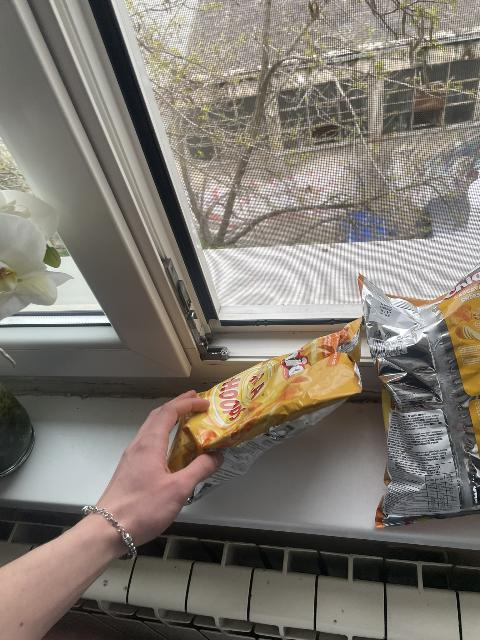Chio Cascaval 125g: (359, 272, 477, 525)
Chio Hula Hoops Cheese 70g: (169, 321, 349, 484)
